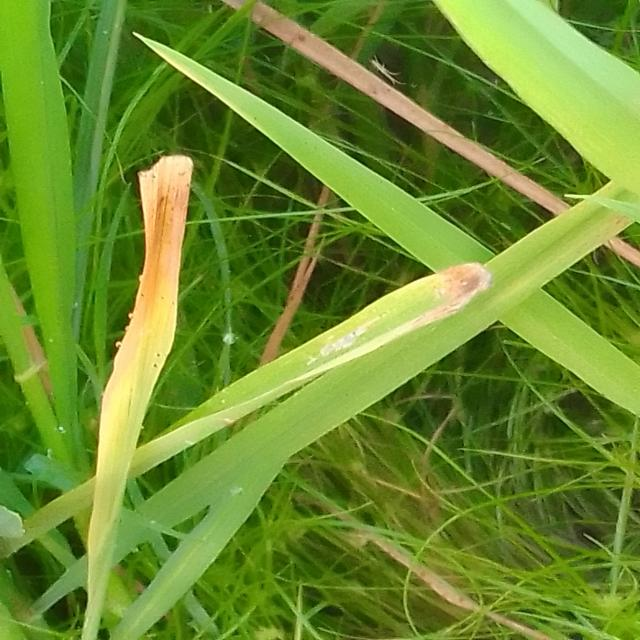Brown spot: (79, 140, 202, 584), (269, 251, 510, 379)
